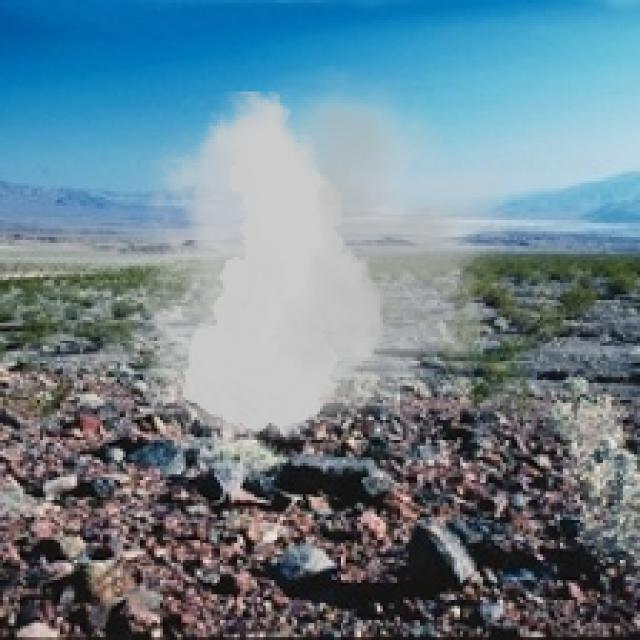Smoke: (111, 66, 534, 457)
